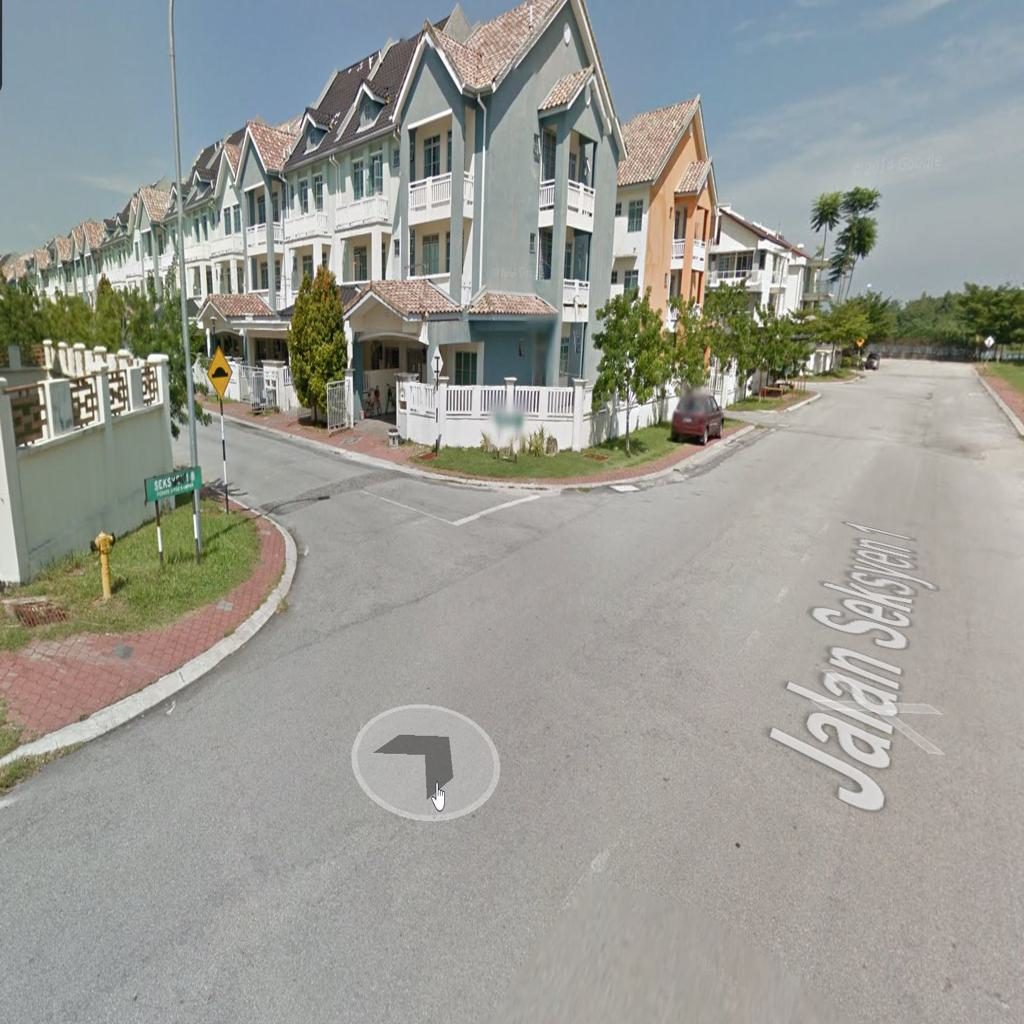Junction: (190, 413, 548, 649)
